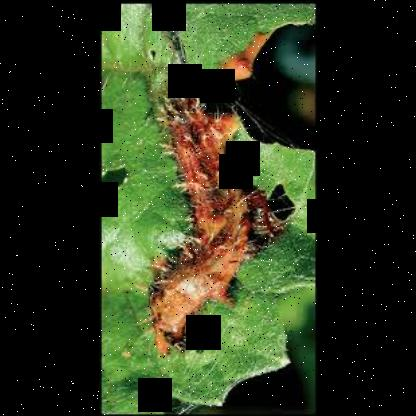oruga: (142, 84, 246, 362)
